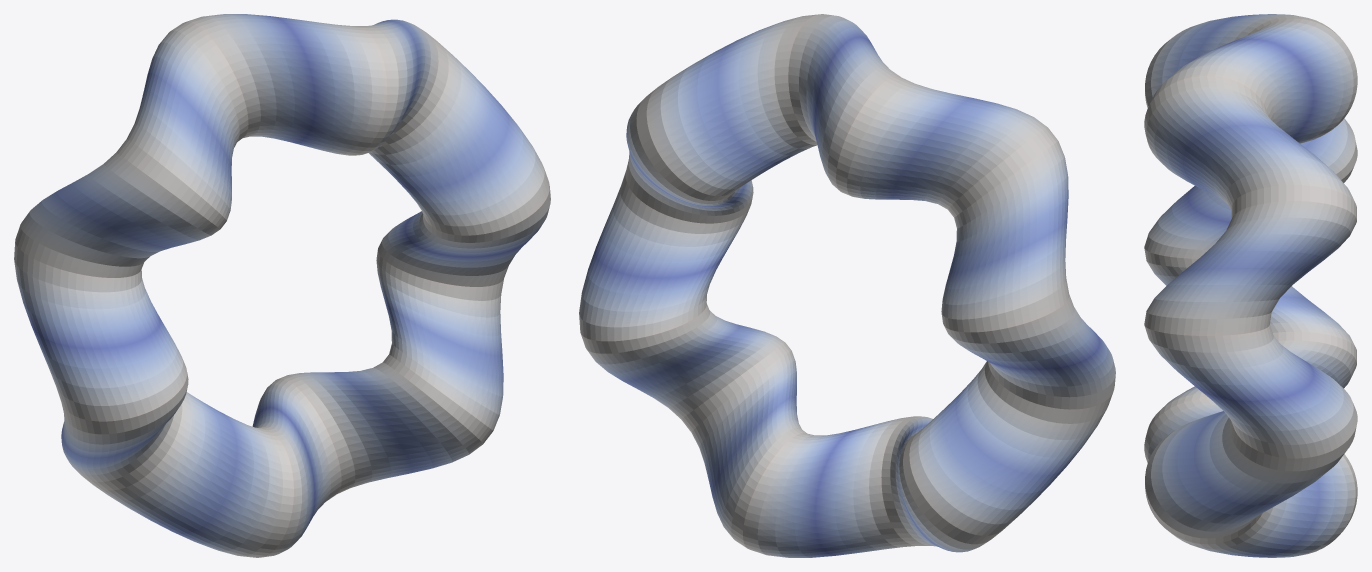
The model's file is step_10.glb.
3 renders of one model, left to right at view 1: azimuth 30°, elevation 25°; view 2: azimuth 150°, elevation 25°; view 3: azimuth 270°, elevation 25°, orthographic. The views are drawn at different scales.
Parts seen in each view (by area): view 1: world; view 2: world; view 3: world.
Part boxes in pixels (x1=…): world: x1=14, y1=14, x2=550, y2=557; world: x1=579, y1=14, x2=1115, y2=557; world: x1=1144, y1=14, x2=1357, y2=557.
Size of the model in its own units: 26 by 26 by 10.19.
